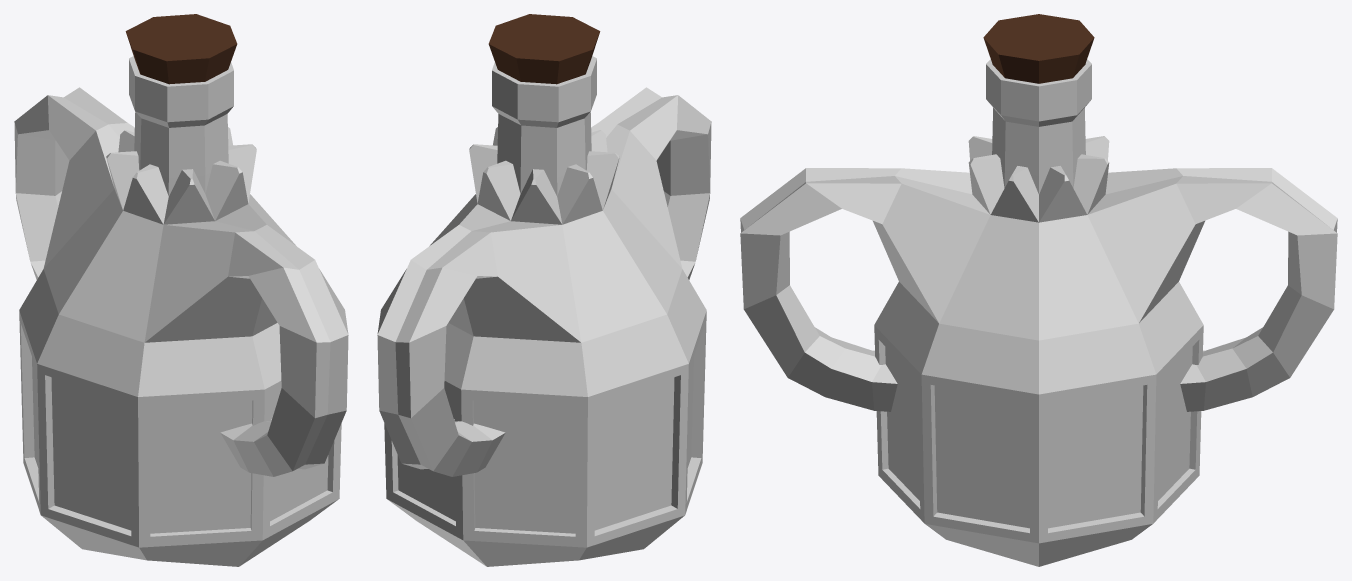
Rendered from Potions.fbx.
3 views of the same model, side by side, from view 1: azimuth 30°, elevation 25°; view 2: azimuth 150°, elevation 25°; view 3: azimuth 270°, elevation 25° (orthographic).
Visible parts, largest first — view 1: PotionBottle.003, PotionHat, PotionBottle.001, PotionBottle; view 2: PotionBottle.003, PotionHat, PotionBottle.001, PotionBottle; view 3: PotionBottle.003, PotionHat, PotionBottle.001, PotionBottle.
Part boxes in pixels (<box>): PotionBottle.003: <box>14,63,348,566</box>; PotionHat: <box>125,14,237,84</box>; PotionBottle.001: <box>134,112,228,196</box>; PotionBottle: <box>129,56,233,127</box>; PotionBottle.003: <box>377,65,711,566</box>; PotionHat: <box>488,14,600,84</box>; PotionBottle.001: <box>497,112,591,196</box>; PotionBottle: <box>492,56,596,127</box>; PotionBottle.003: <box>740,66,1337,566</box>; PotionHat: <box>983,14,1094,83</box>; PotionBottle.001: <box>992,108,1085,193</box>; PotionBottle: <box>986,59,1091,126</box>.
Bounding box in the file's own units: 49.36 × 84.44 × 89.5.
